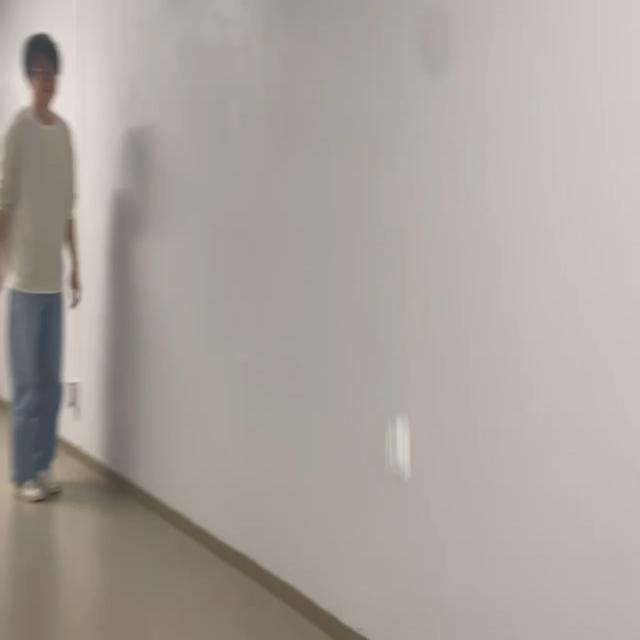paper: (384, 408, 414, 485)
